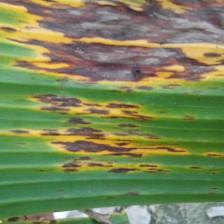sigatoka: (0, 0, 224, 216)
